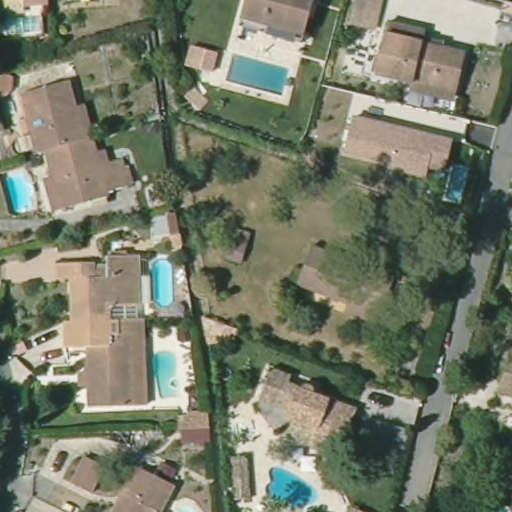pool: (258, 464, 328, 512), (229, 52, 290, 101), (146, 340, 185, 402), (2, 166, 45, 219), (145, 254, 179, 307), (441, 159, 470, 209), (1, 14, 47, 40)
